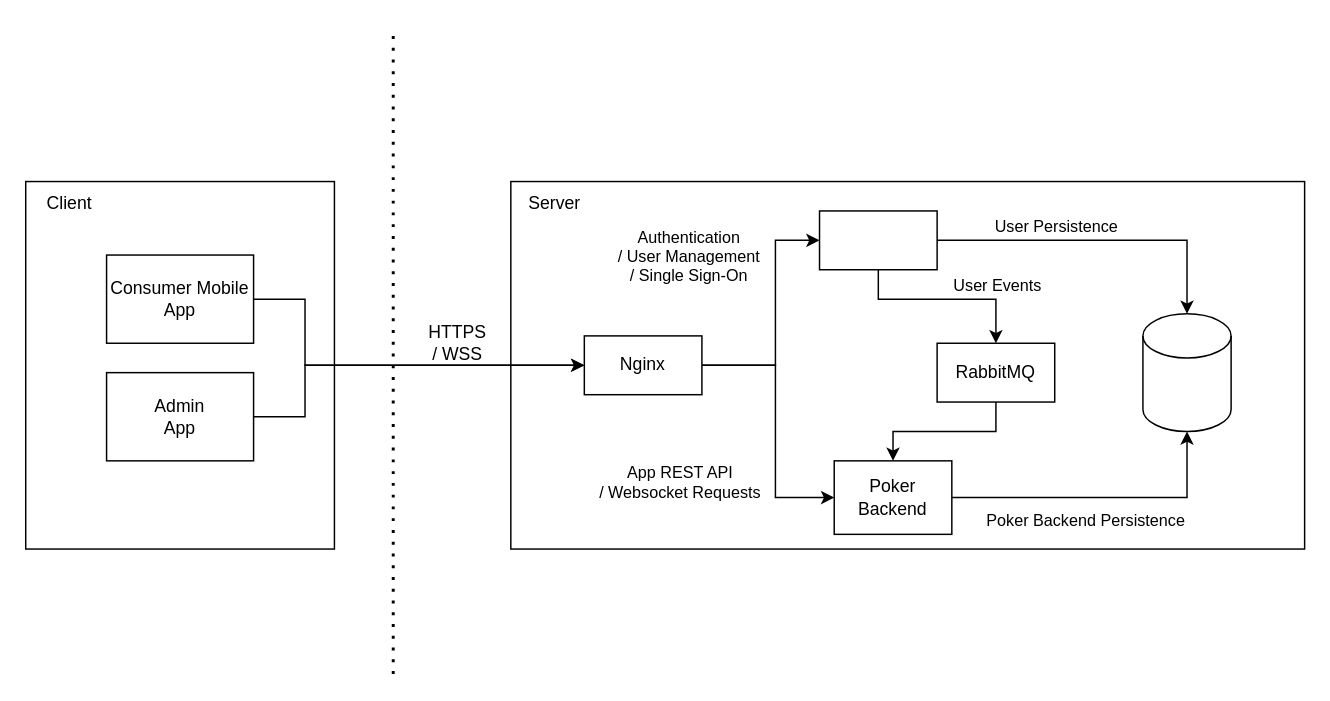
The diagram is 1330 pixels wide and 701 high, and some of its shapes have lost their labels. The centre of each missing label's shape, as x and y in pixels:
"Keycloak" goes at (x=877, y=239).
"PSQL" goes at (x=1186, y=371).
